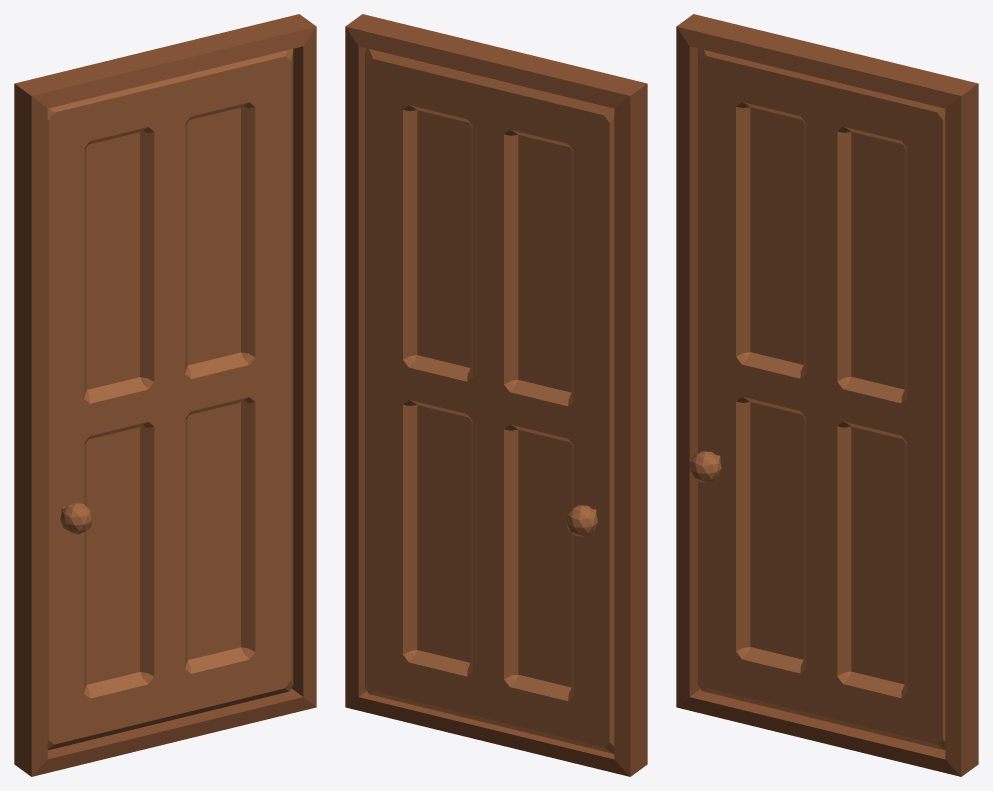
File: door.gltf
3 renders of one model, left to right at view 1: azimuth 30°, elevation 25°; view 2: azimuth 150°, elevation 25°; view 3: azimuth 330°, elevation 25°, orthographic.
Visible parts, largest first — view 1: Door B, Door B.001; view 2: Door B, Door B.001; view 3: Door B, Door B.001.
Boxes of the visible parts, bbox=[...] form: Door B: bbox=[47, 49, 293, 750]; Door B.001: bbox=[14, 14, 316, 776]; Door B: bbox=[365, 48, 614, 753]; Door B.001: bbox=[345, 14, 647, 776]; Door B: bbox=[689, 48, 945, 750]; Door B.001: bbox=[676, 14, 978, 776].
Bounding box in the file's own units: 4.48 × 10.22 × 1.44.
